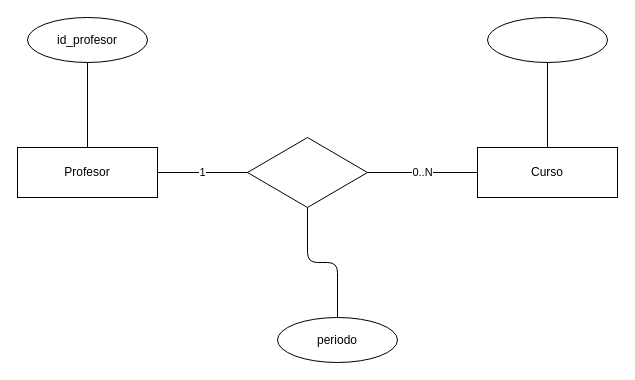
The diagram is 635 pixels wide and 380 high, and some of its shapes have lost their labels. Each missing label, with the centre of its shape:
"dicta" belongs at (307,172).
"id_curso" belongs at (547,39).
